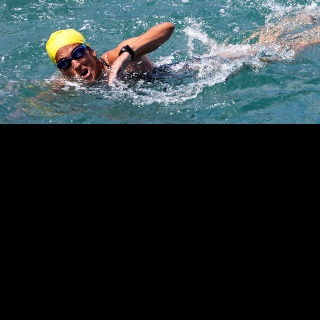without_mask: (54, 43, 98, 83)
